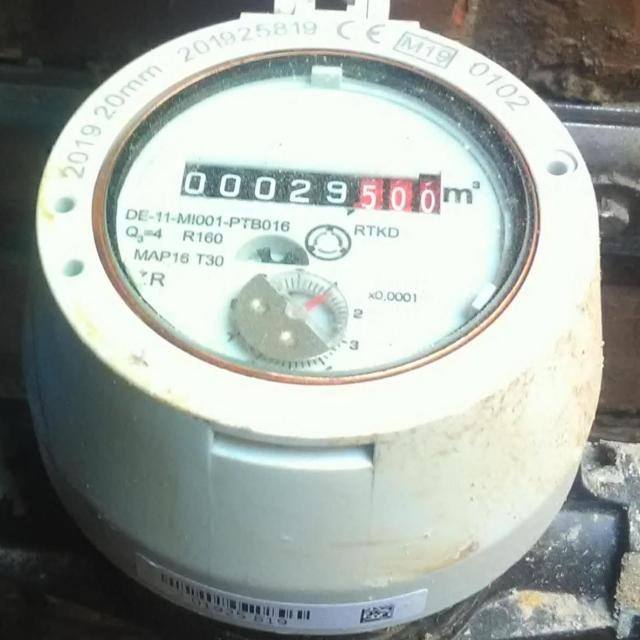gaz_meter: (103, 46, 540, 384)
indication: (171, 155, 442, 217)
